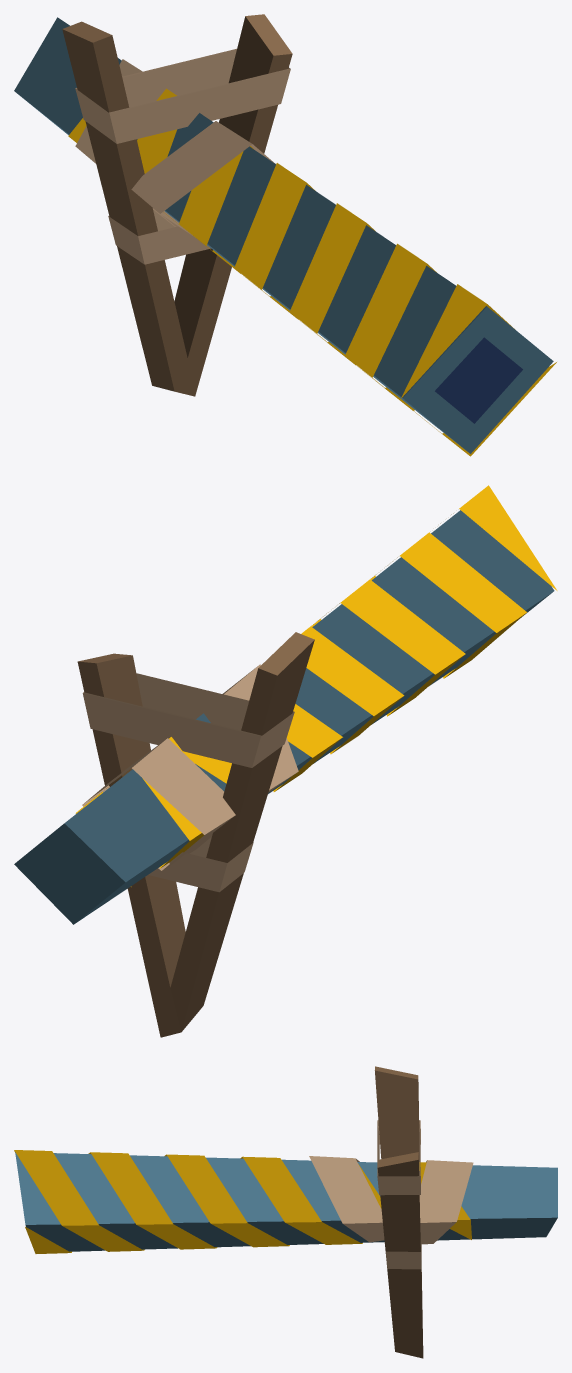
Rendered from Item_PartyPoppers01.FBX.
The picture shows the model from 3 angles, top to bottom: view 1: azimuth 30°, elevation 25°; view 2: azimuth 150°, elevation 25°; view 3: azimuth 270°, elevation 25°; orthographic projection. The views are drawn at different scales.
Visible parts, largest first — view 1: Item_PartyPoppers01; view 2: Item_PartyPoppers01; view 3: Item_PartyPoppers01.
Boxes of the visible parts, x1,y1,x2,y2 form: Item_PartyPoppers01: [14, 14, 556, 456]; Item_PartyPoppers01: [14, 485, 557, 1037]; Item_PartyPoppers01: [14, 1066, 557, 1358].
Size of the model in its own units: 12.33 by 23.3 by 44.57.
